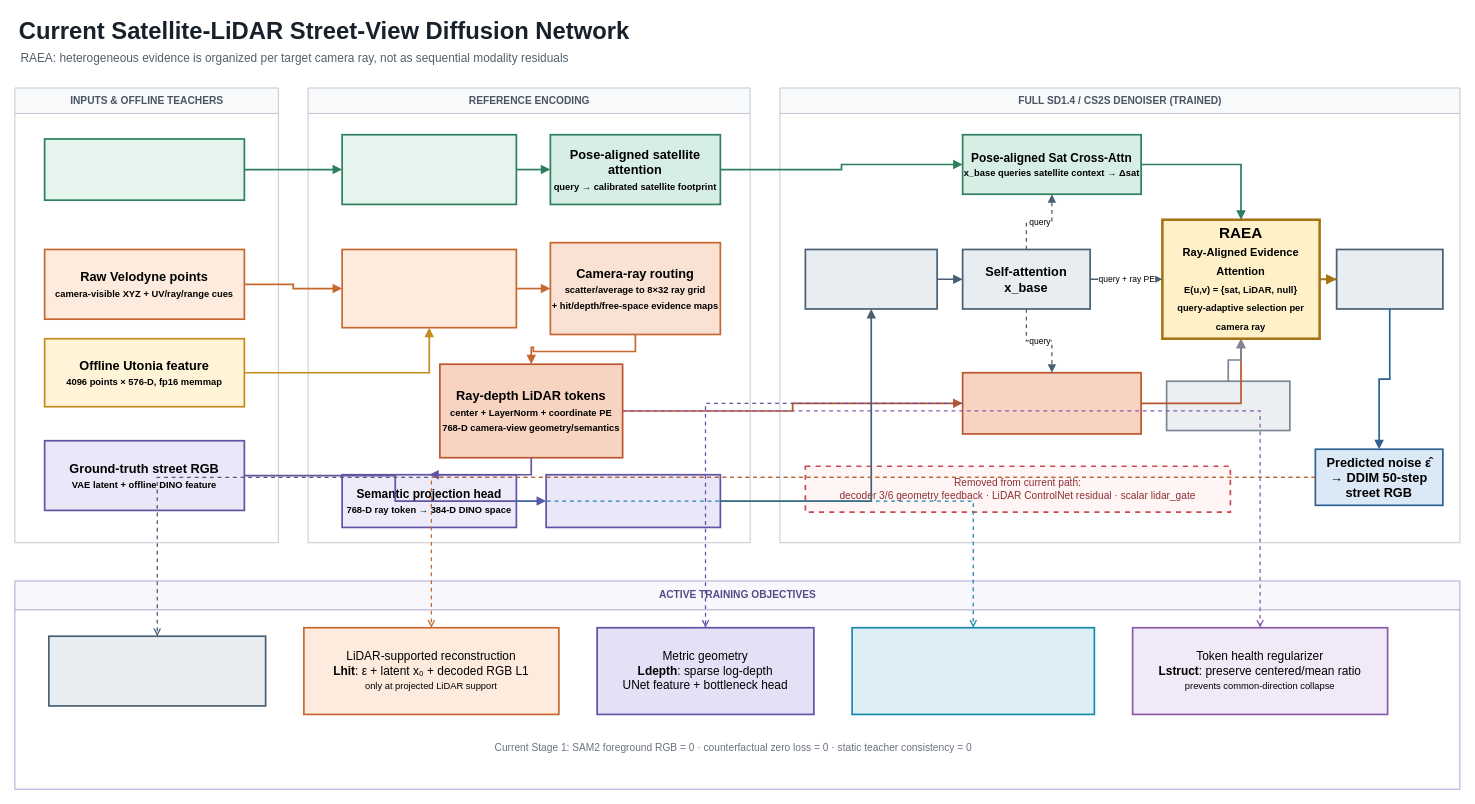
Some shapes in this 1475 by 804 pixel diagram are drawn without their labels. Here are the shapes that lost their labels. From the top down, the centre of each, then its label:
At [144,169]: "Satellite image pose + KITTI calibration".
At [429,169]: "CS2S satellite encoder multi-scale satellite context".
At [429,288]: "3D point feature fusion raw point MLP + Utonia projection".
At [871,278]: "Street latent xₜ(u,v) timestep-conditioned upstream feature".
At [1389,278]: "Residual update + FFN repeated across UNet transformer blocks".
At [1051,402]: "Local LiDAR Cross-Attn x_base queries local 3×3 ray tokens → Δlidar".
At [1227,405]: "Learned null / prior evidence".
At [633,500]: "VAE encode + diffusion noise x₀ → xₜ, timestep t".
At [157,670]: "Diffusion denoising Lε : full-image epsilon MSE".
At [973,670]: "Cross-modal semantics LDINO : cosine alignment LiDAR ray token ↔ GT DINO feature".
